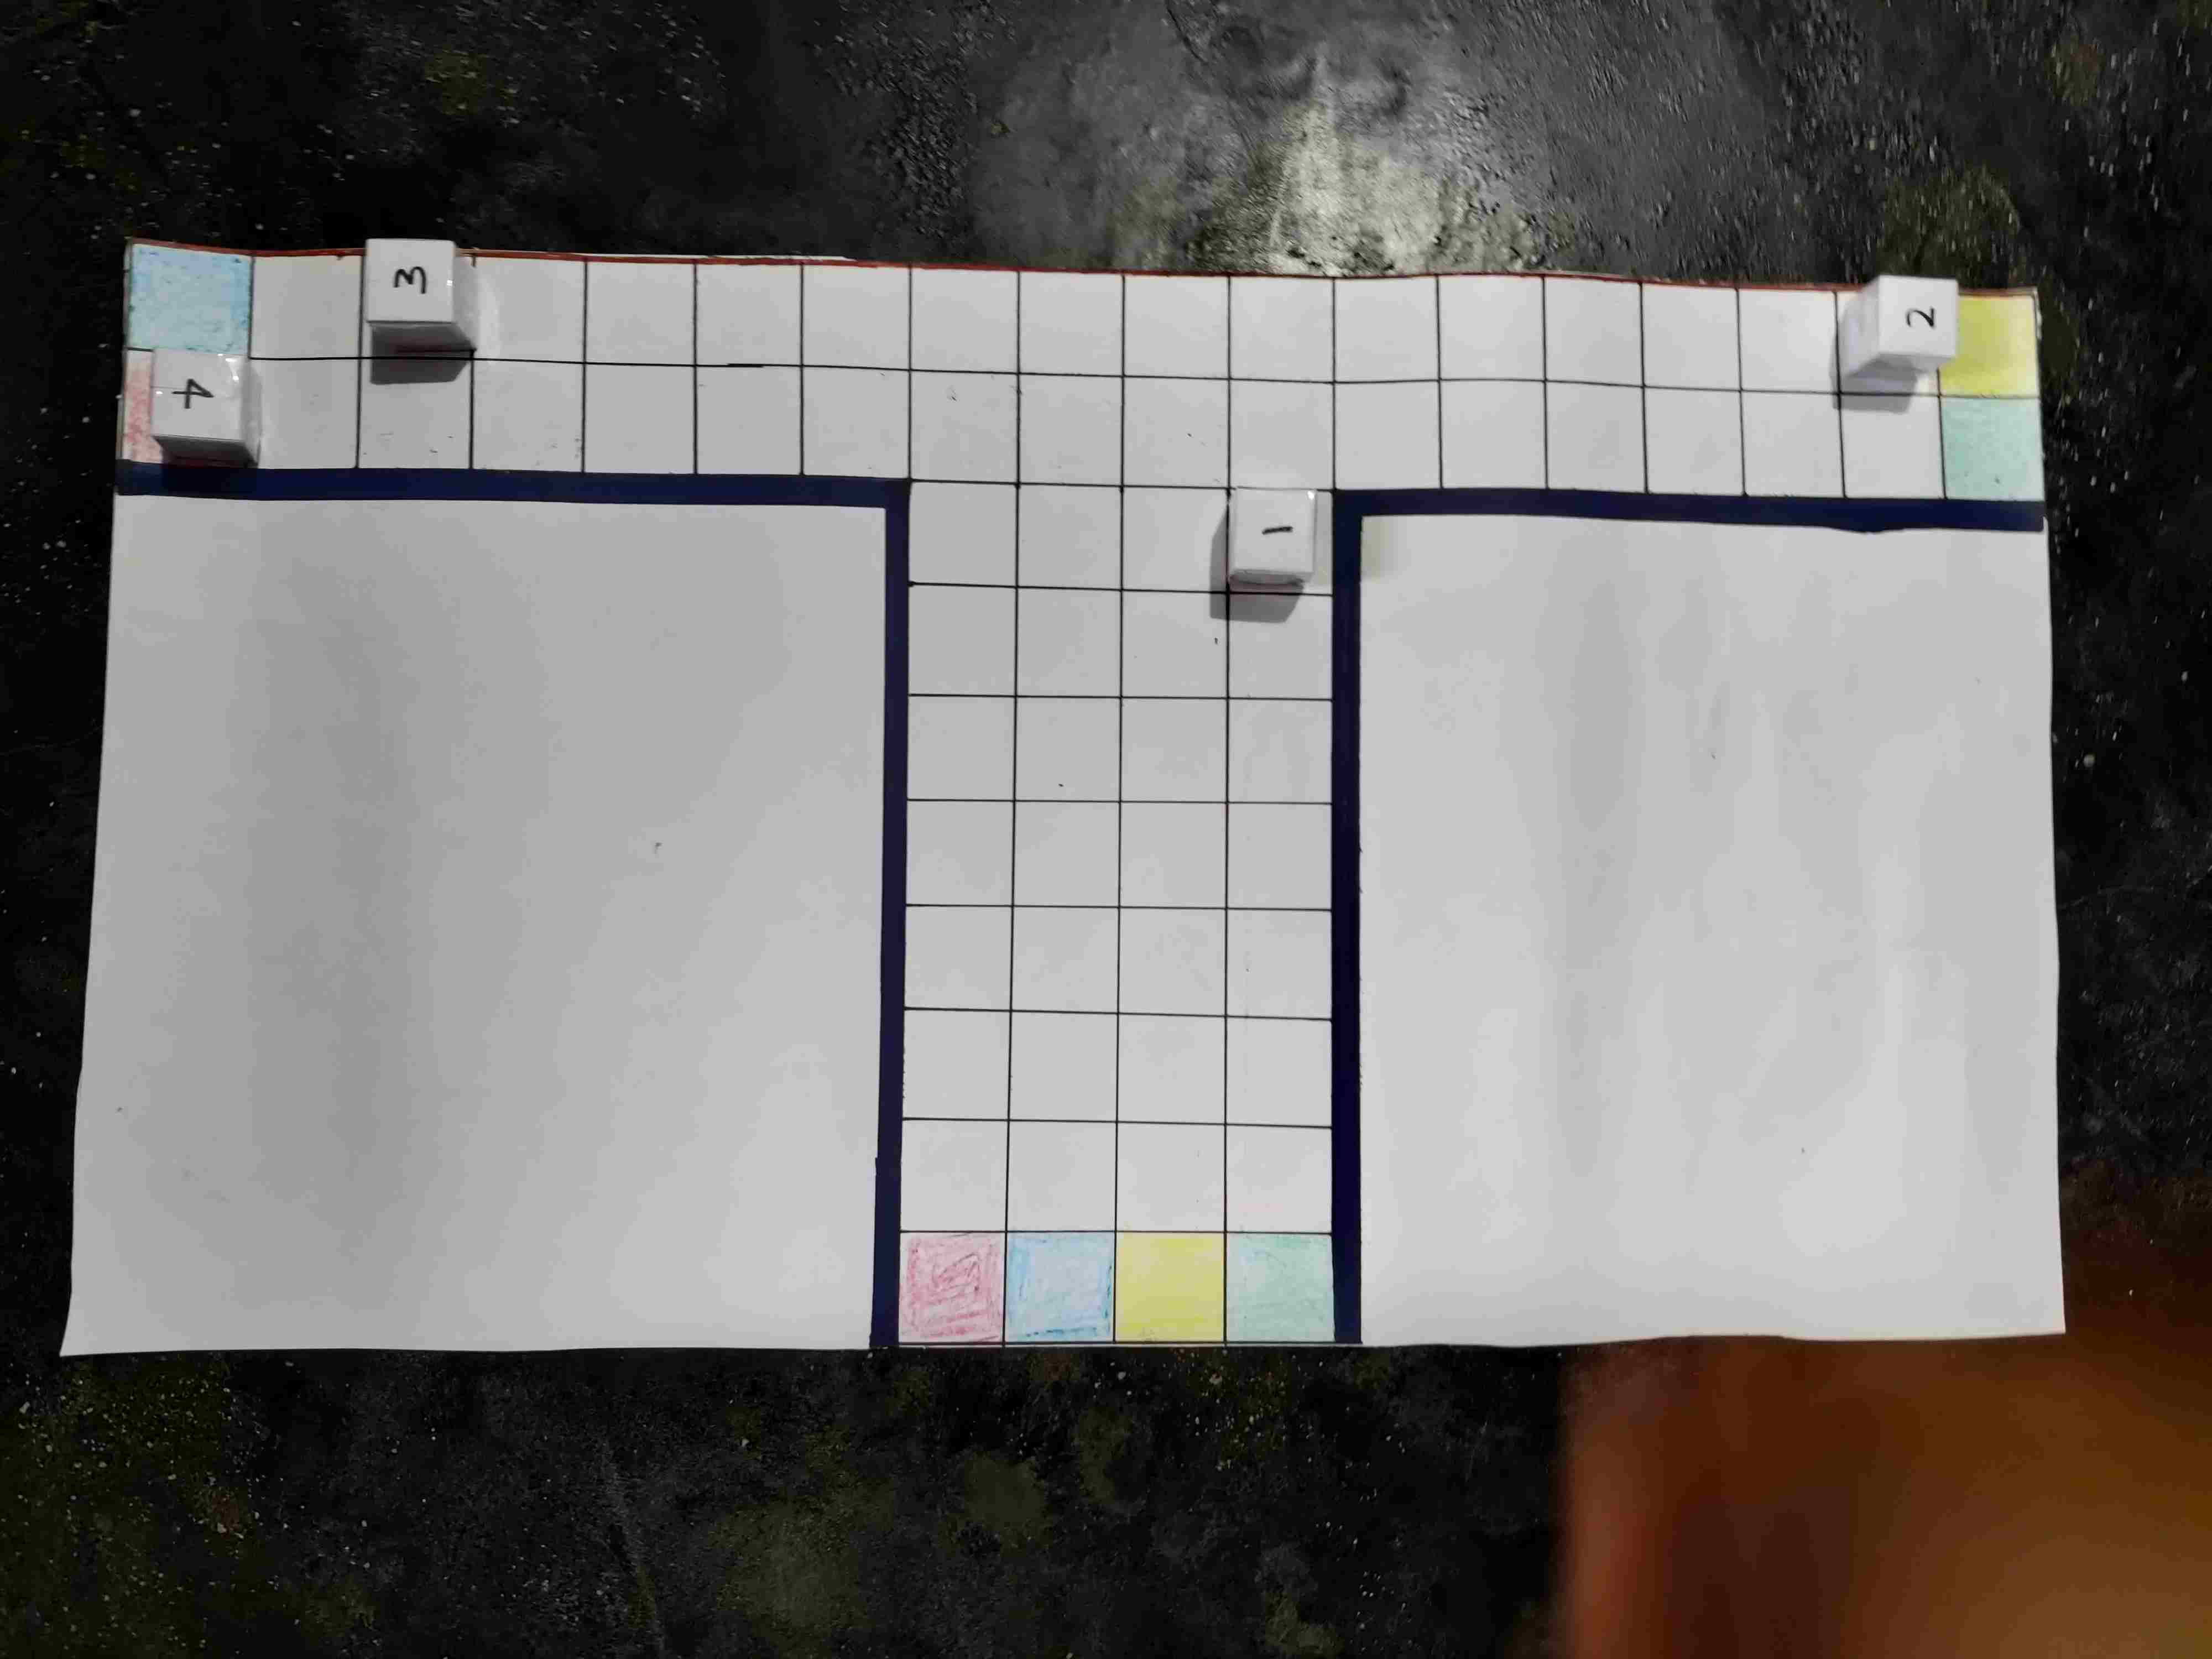arena: (49, 254, 1989, 1363)
bot: (571, 1161, 664, 1246), (1689, 1166, 1784, 1248), (1355, 1284, 1437, 1375), (693, 1284, 780, 1364)
